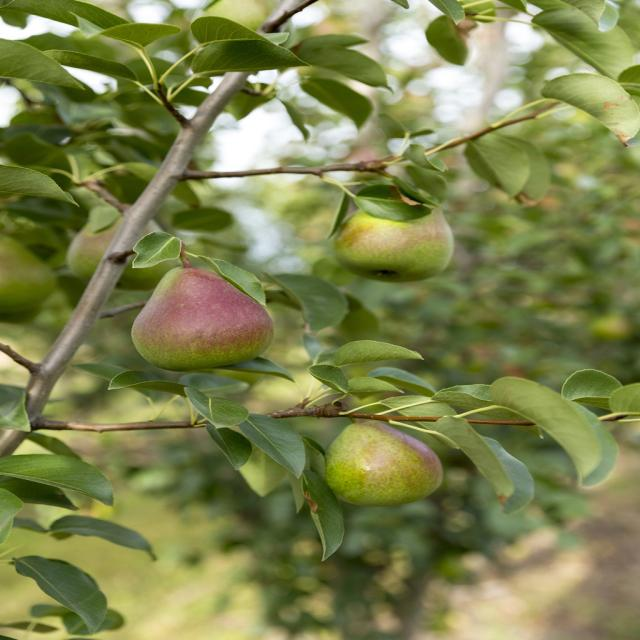pear: (129, 266, 274, 370), (332, 186, 453, 282), (65, 207, 177, 295), (324, 424, 440, 508), (0, 238, 58, 326)
